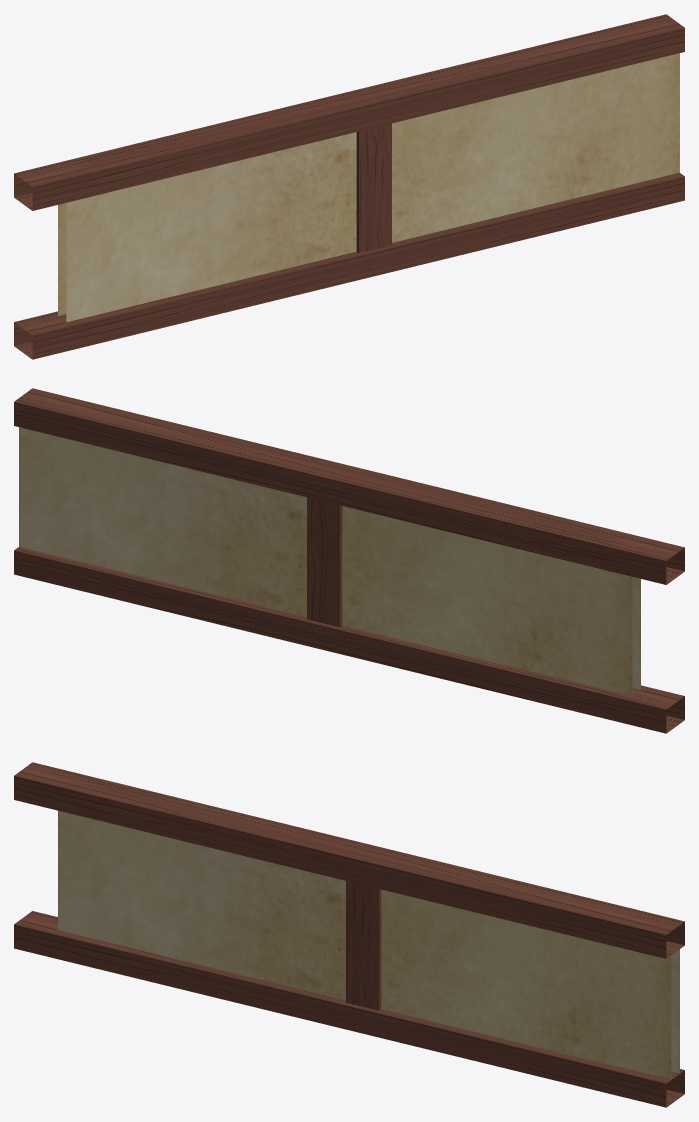
The model's file is SM_SeparatorH.fbx.
The picture shows the model from 3 angles, top to bottom: view 1: azimuth 30°, elevation 25°; view 2: azimuth 150°, elevation 25°; view 3: azimuth 330°, elevation 25°; orthographic projection.
Visible parts, largest first — view 1: SM_SeparatorH; view 2: SM_SeparatorH; view 3: SM_SeparatorH.
Boxes of the visible parts, x1,y1,x2,y2 form: SM_SeparatorH: [14, 14, 684, 359]; SM_SeparatorH: [14, 388, 684, 733]; SM_SeparatorH: [14, 762, 684, 1107].
Size of the model in its own units: 30000 by 7589 by 1476.
